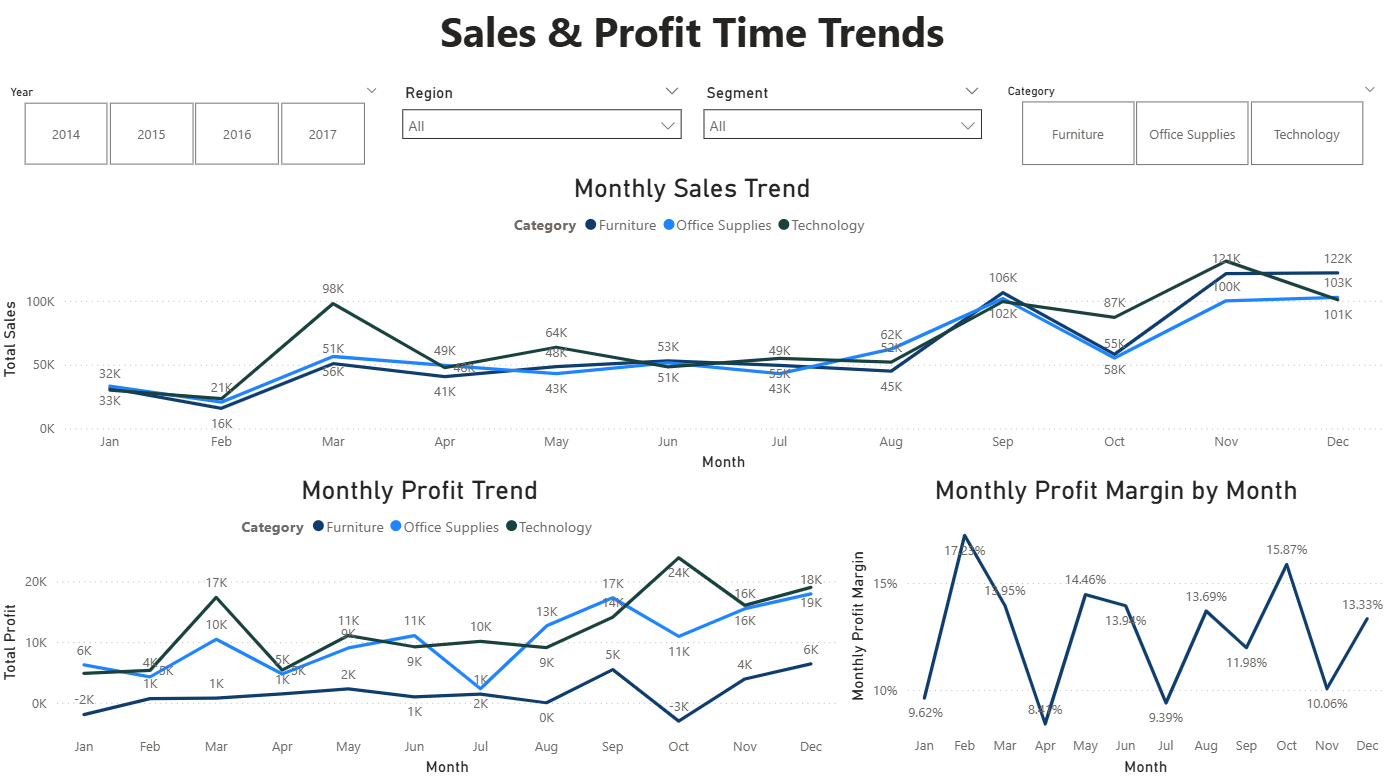

The page's visual inventory and layout, read from the dashboard file:
{"tool":"powerbi","page":{"name":"Monthly Trends","canvas":[1280,720],"ordinal":1},"visuals":[{"type":"textbox","box":[337.9,0,604.3,72.9],"z":0},{"type":"lineChart","title":"Monthly Sales Trend","fields":{"Y":["Cleaned_Superstore.Total Sales"],"Series":["Cleaned_Superstore.Category"],"Category":["DateTable.Month"]},"box":[0,160.5,1280,278.6],"z":1000},{"type":"lineChart","title":"Monthly Profit Trend","fields":{"Y":["Cleaned_Superstore.Total Profit"],"Series":["Cleaned_Superstore.Category"],"Category":["DateTable.Month"]},"box":[0,438.4,778.8,281.8],"z":2000},{"type":"lineChart","fields":{"Category":["DateTable.Month"],"Y":["Cleaned_Superstore.Monthly Profit Margin"]},"box":[778.8,438.4,501.6,281.8],"z":3000},{"type":"slicer","fields":{"Values":["DateTable.Year"]},"box":[0,74.3,362.9,85.7],"z":4000},{"type":"slicer","fields":{"Values":["Cleaned_Superstore.Region"]},"box":[363.2,73.4,277.4,87.1],"z":5000},{"type":"slicer","fields":{"Values":["Cleaned_Superstore.Segment"]},"box":[640.6,73.4,276.2,87.1],"z":6000},{"type":"slicer","fields":{"Values":["Cleaned_Superstore.Category"]},"box":[916.9,74,363.6,87],"z":7000}]}

Visuals, with their boxes in screenshot pixels (x1, y1, x2, y2), scaled from the page's 1280x720 canvas onto the 1385x779 screenshot:
textbox: {"x1": 366, "y1": 0, "x2": 1019, "y2": 79}
"Monthly Sales Trend" lineChart: {"x1": 0, "y1": 174, "x2": 1384, "y2": 475}
"Monthly Profit Trend" lineChart: {"x1": 0, "y1": 474, "x2": 843, "y2": 778}
lineChart - DateTable.Month x Cleaned_Superstore.Monthly Profit Margin: {"x1": 843, "y1": 474, "x2": 1384, "y2": 778}
slicer - DateTable.Year: {"x1": 0, "y1": 80, "x2": 393, "y2": 173}
slicer - Cleaned_Superstore.Region: {"x1": 393, "y1": 79, "x2": 693, "y2": 174}
slicer - Cleaned_Superstore.Segment: {"x1": 693, "y1": 79, "x2": 992, "y2": 174}
slicer - Cleaned_Superstore.Category: {"x1": 992, "y1": 80, "x2": 1384, "y2": 174}
